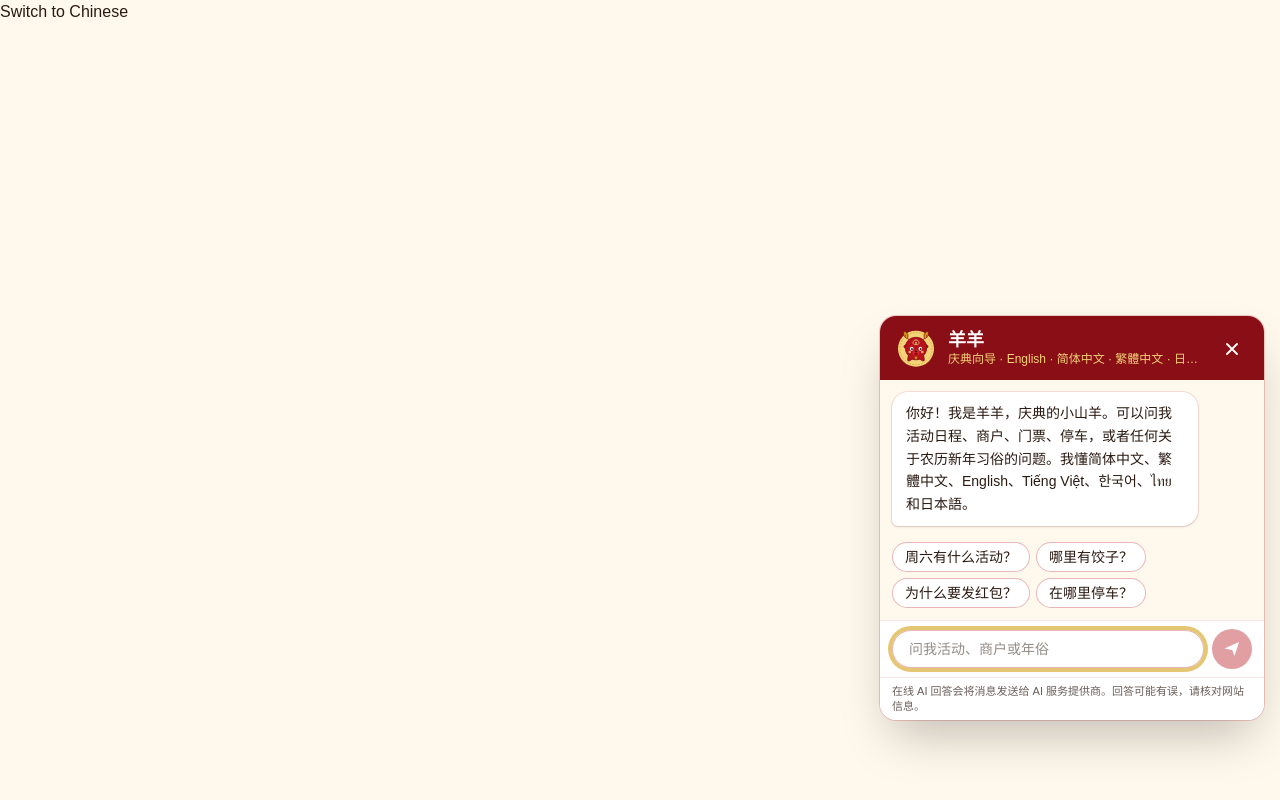
Test case: chat panel source-of-truth and recovery › answers the zh event-address question locally even with live AI configured
The image size is (1280, 800).
In the field with test id "chat-input": {"x": 1048, "y": 649} [892,630,1204,668], type "活动的地址在哪里？"
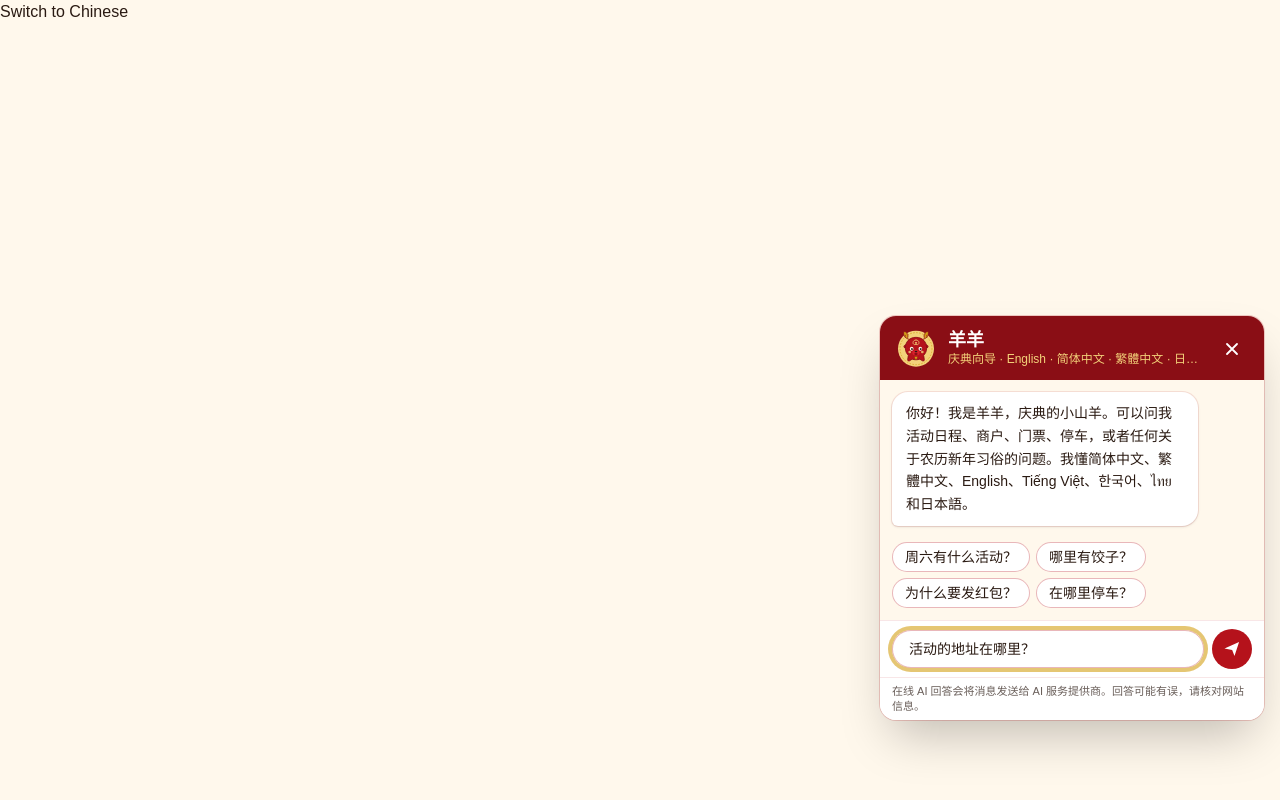
Click the button with test id "chat-send": {"x": 1232, "y": 649} [1212,629,1252,669]
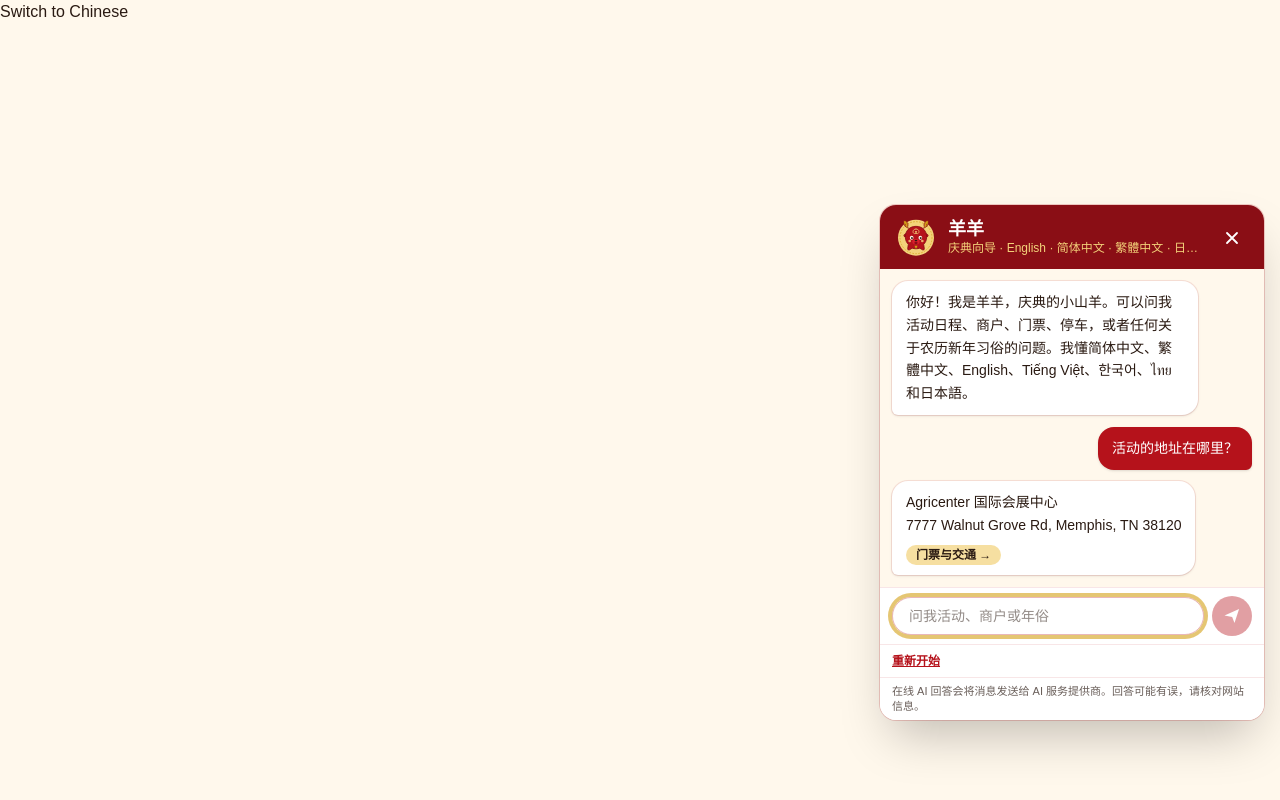
expect the number of elements with test id "chat-bot" is 2: met, box [892,281,1198,415]; [892,481,1196,575]
expect the element with test id "chat-bot" shows "7777 Walnut Grove Rd, Memphis, TN 38120": met, box [906,494,1182,533]
expect the element with test id "chat-bot" shows "Agricenter 国际会展中心": met, box [906,494,1182,533]
